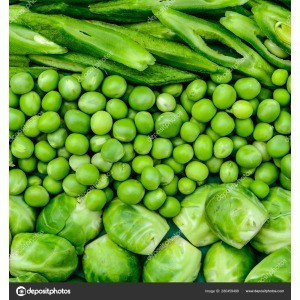green pea_brain food: (42, 75, 252, 187)
